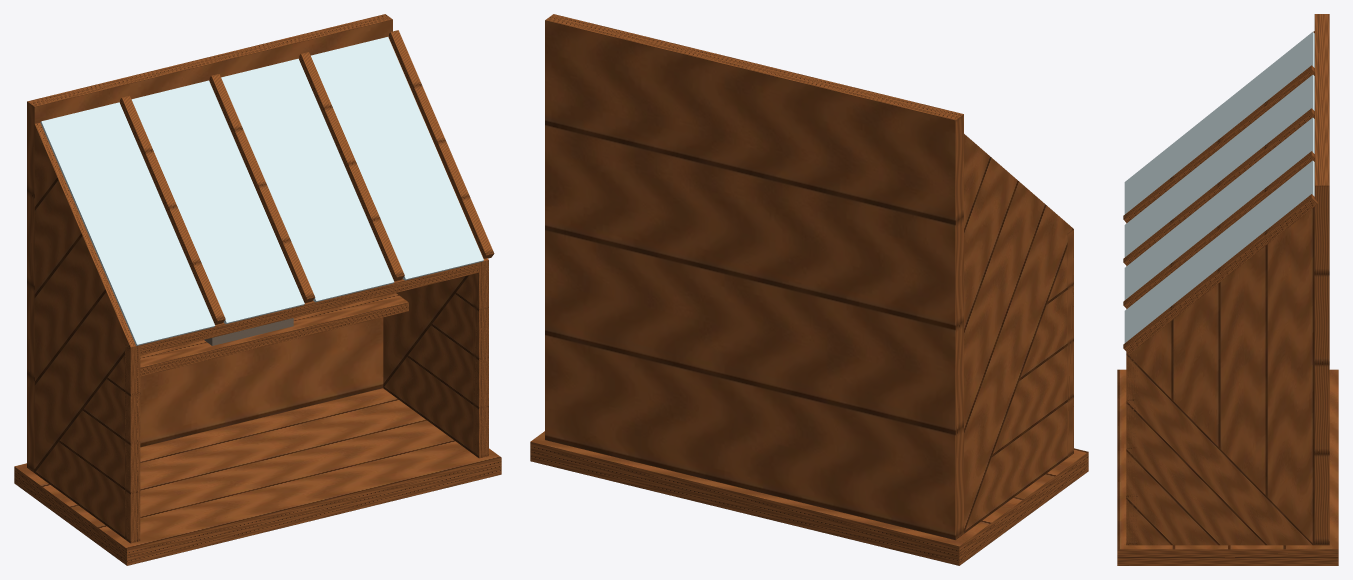
The model's file is allotments-and-community-garden-lean-to-greenhouse-6c067d10__35148.glb.
3 renders of one model, left to right at view 1: azimuth 30°, elevation 25°; view 2: azimuth 150°, elevation 25°; view 3: azimuth 270°, elevation 25°, orthographic. The views are drawn at different scales.
Parts seen in each view (by area): view 1: lean-to-greenhouse-timber, lean-to-greenhouse-glass, lean-to-greenhouse-soil; view 2: lean-to-greenhouse-timber; view 3: lean-to-greenhouse-timber, lean-to-greenhouse-glass.
Boxes of the visible parts, x1,y1,x2,y2 form: lean-to-greenhouse-timber: (14, 14, 501, 565); lean-to-greenhouse-glass: (40, 37, 483, 345); lean-to-greenhouse-soil: (204, 318, 293, 345); lean-to-greenhouse-timber: (530, 14, 1088, 565); lean-to-greenhouse-timber: (1117, 14, 1338, 565); lean-to-greenhouse-glass: (1124, 32, 1314, 342).
Bounding box in the file's own units: 2.3 × 2.25 × 1.2.
Materials: 5 (2 with a texture image).
